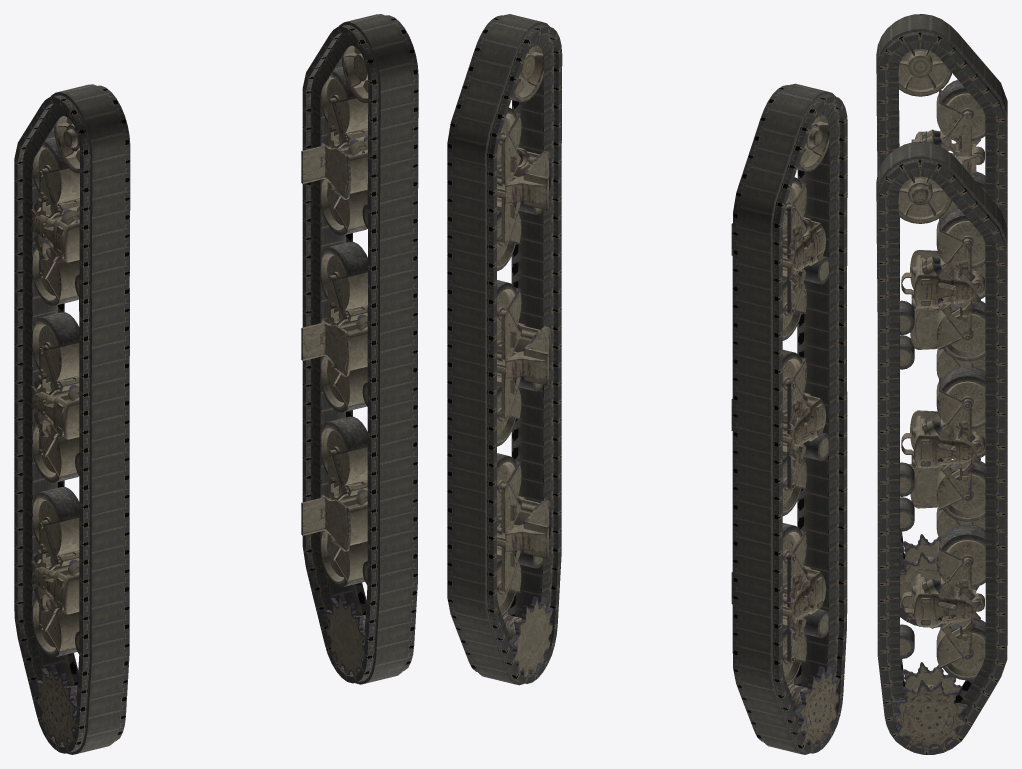
File: Chassis.glb
The picture shows the model from 3 angles, left to right: view 1: azimuth 30°, elevation 25°; view 2: azimuth 150°, elevation 25°; view 3: azimuth 270°, elevation 25°; orthographic projection. The views are drawn at different scales.
Parts seen in each view (by area): view 1: set_1_group_0, set_0_group_0, set_3_group_0, set_2_group_0; view 2: set_1_group_0, set_0_group_0, set_3_group_0, set_2_group_0; view 3: set_3_group_0, set_0_group_0, set_2_group_0, set_1_group_0.
Boxes of the visible parts, x1,y1,x2,y2 form: set_1_group_0: (14,84,130,754); set_0_group_0: (302,14,418,684); set_3_group_0: (301,45,368,675); set_2_group_0: (30,116,79,746); set_1_group_0: (732,83,847,754); set_0_group_0: (447,14,562,685); set_3_group_0: (497,45,553,676); set_2_group_0: (731,115,840,746); set_3_group_0: (891,176,985,749); set_0_group_0: (876,141,1007,754); set_2_group_0: (898,49,985,616); set_1_group_0: (876,14,1007,627).
Size of the model in its own units: 3.01 by 5.66 by 1.12.
4 materials, 4 textured.
